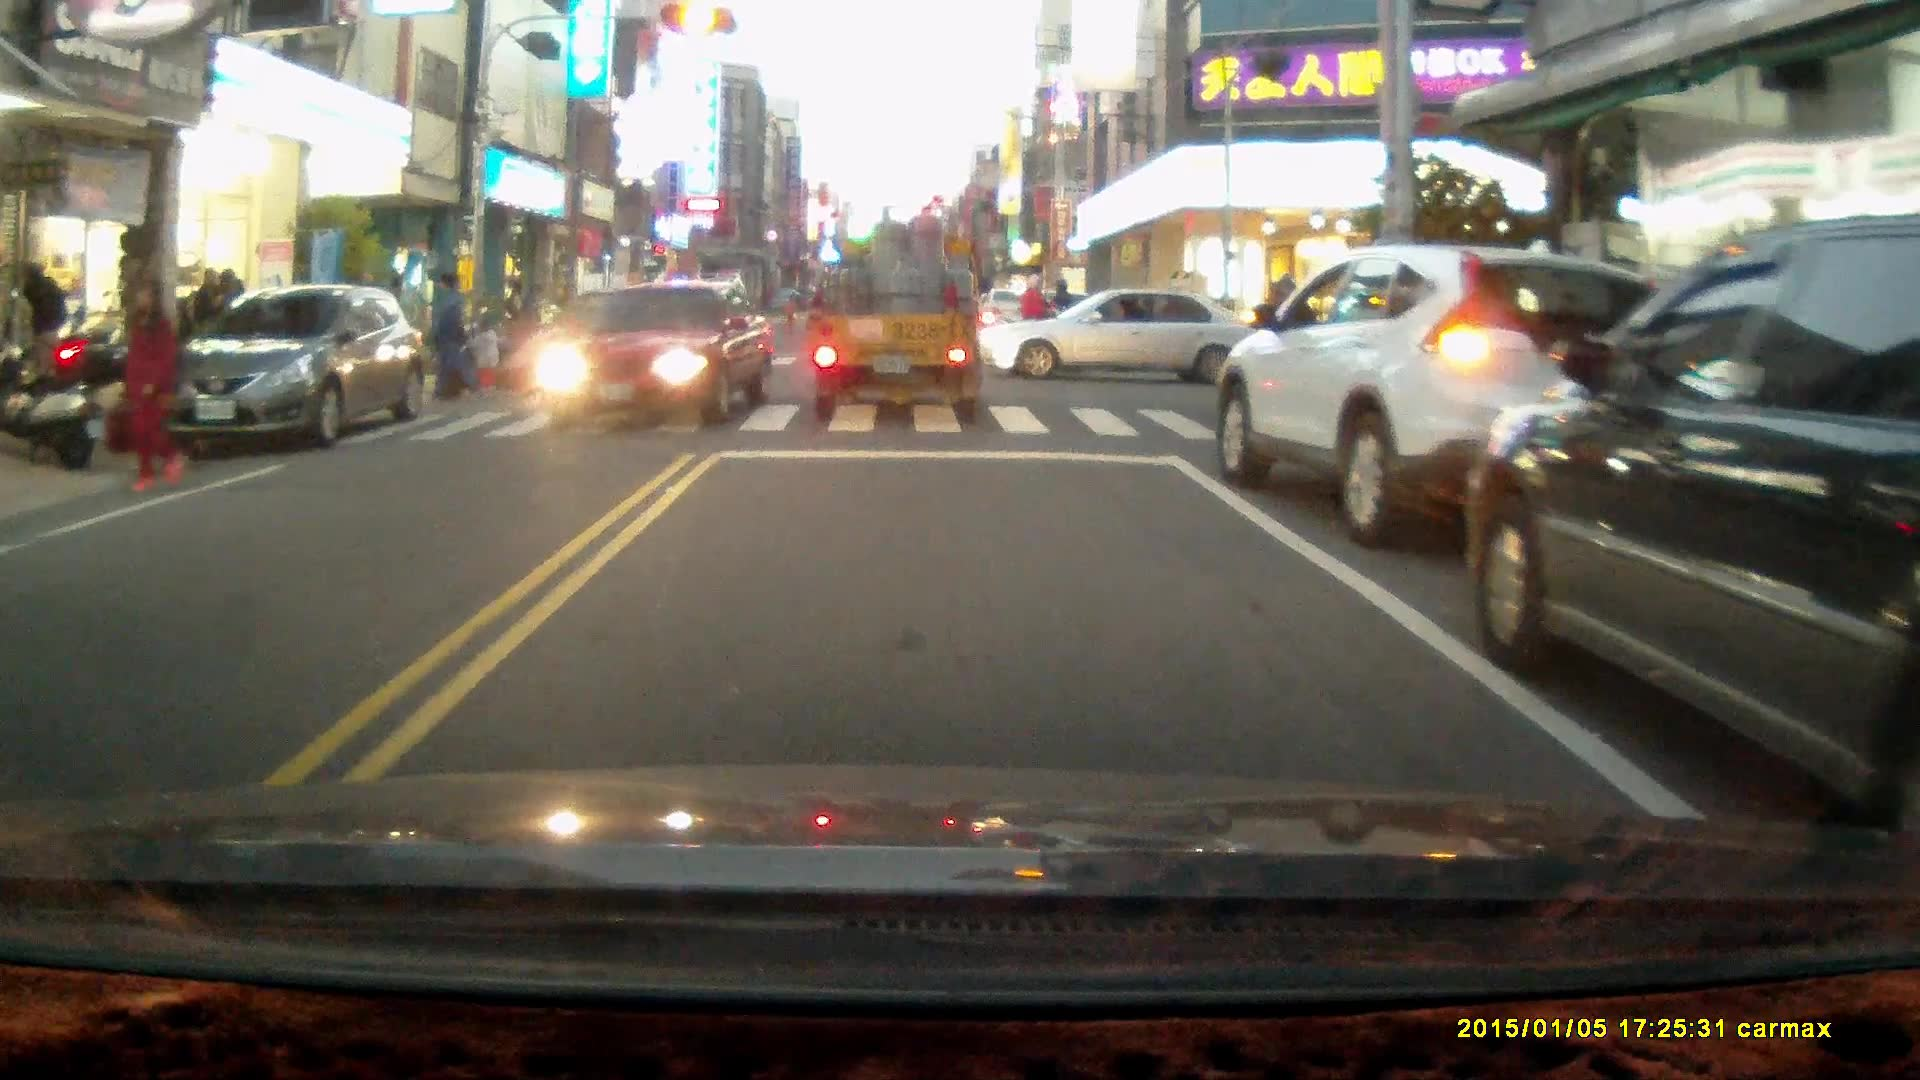pedestrian: (113, 274, 190, 491), (424, 266, 476, 402), (19, 260, 68, 391), (467, 317, 502, 388)
rider: (991, 268, 1077, 358)
vehicle: (1469, 209, 1920, 835), (1214, 247, 1721, 549), (157, 286, 421, 459), (809, 197, 983, 434), (532, 279, 774, 429), (983, 288, 1270, 392)
